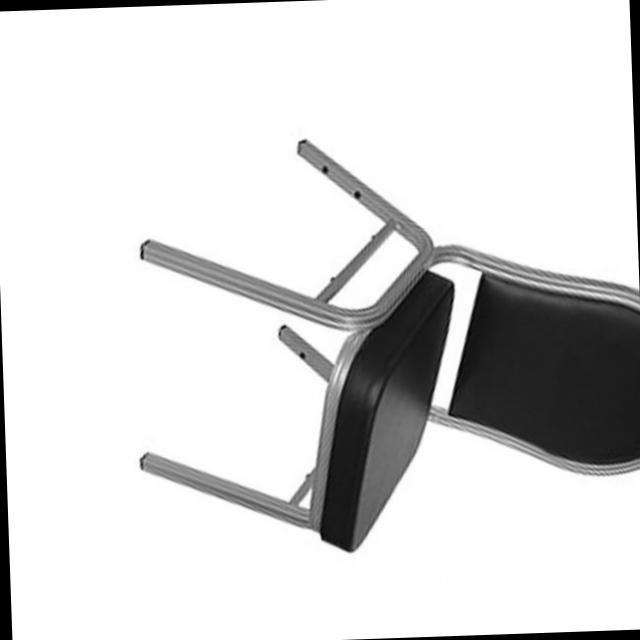chair: (118, 117, 640, 563)
